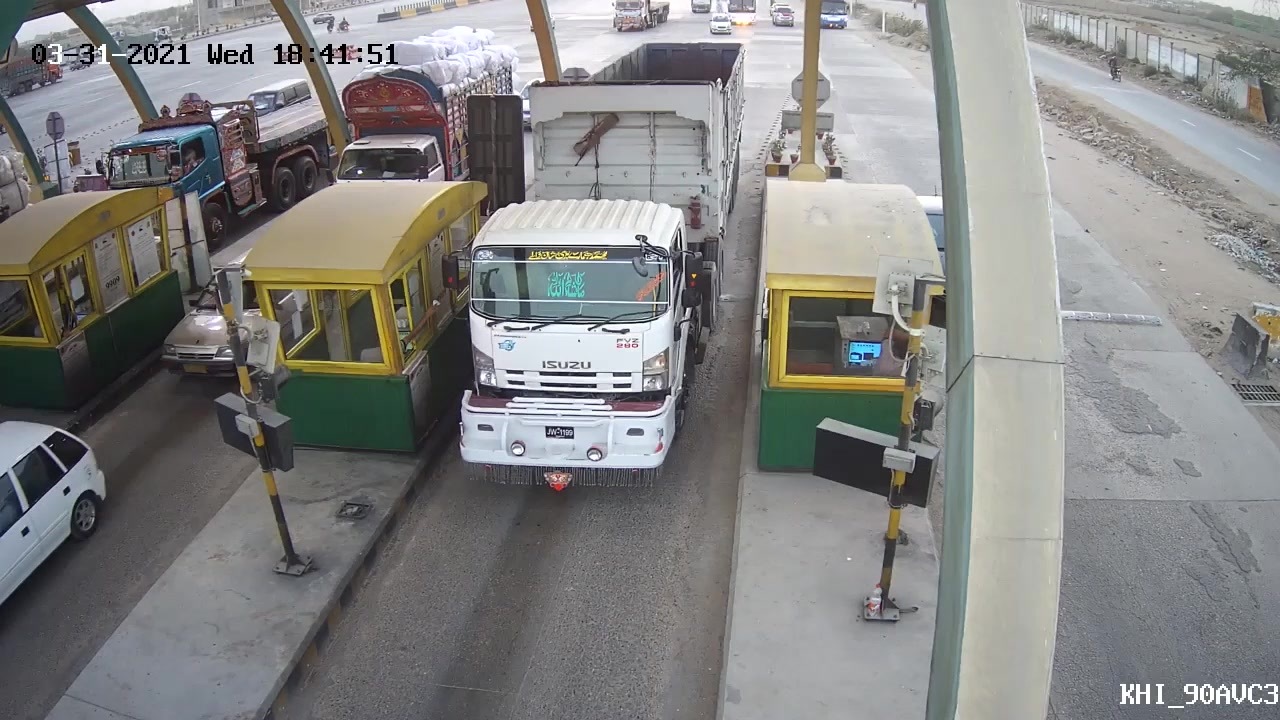F5: (449, 37, 758, 492)
